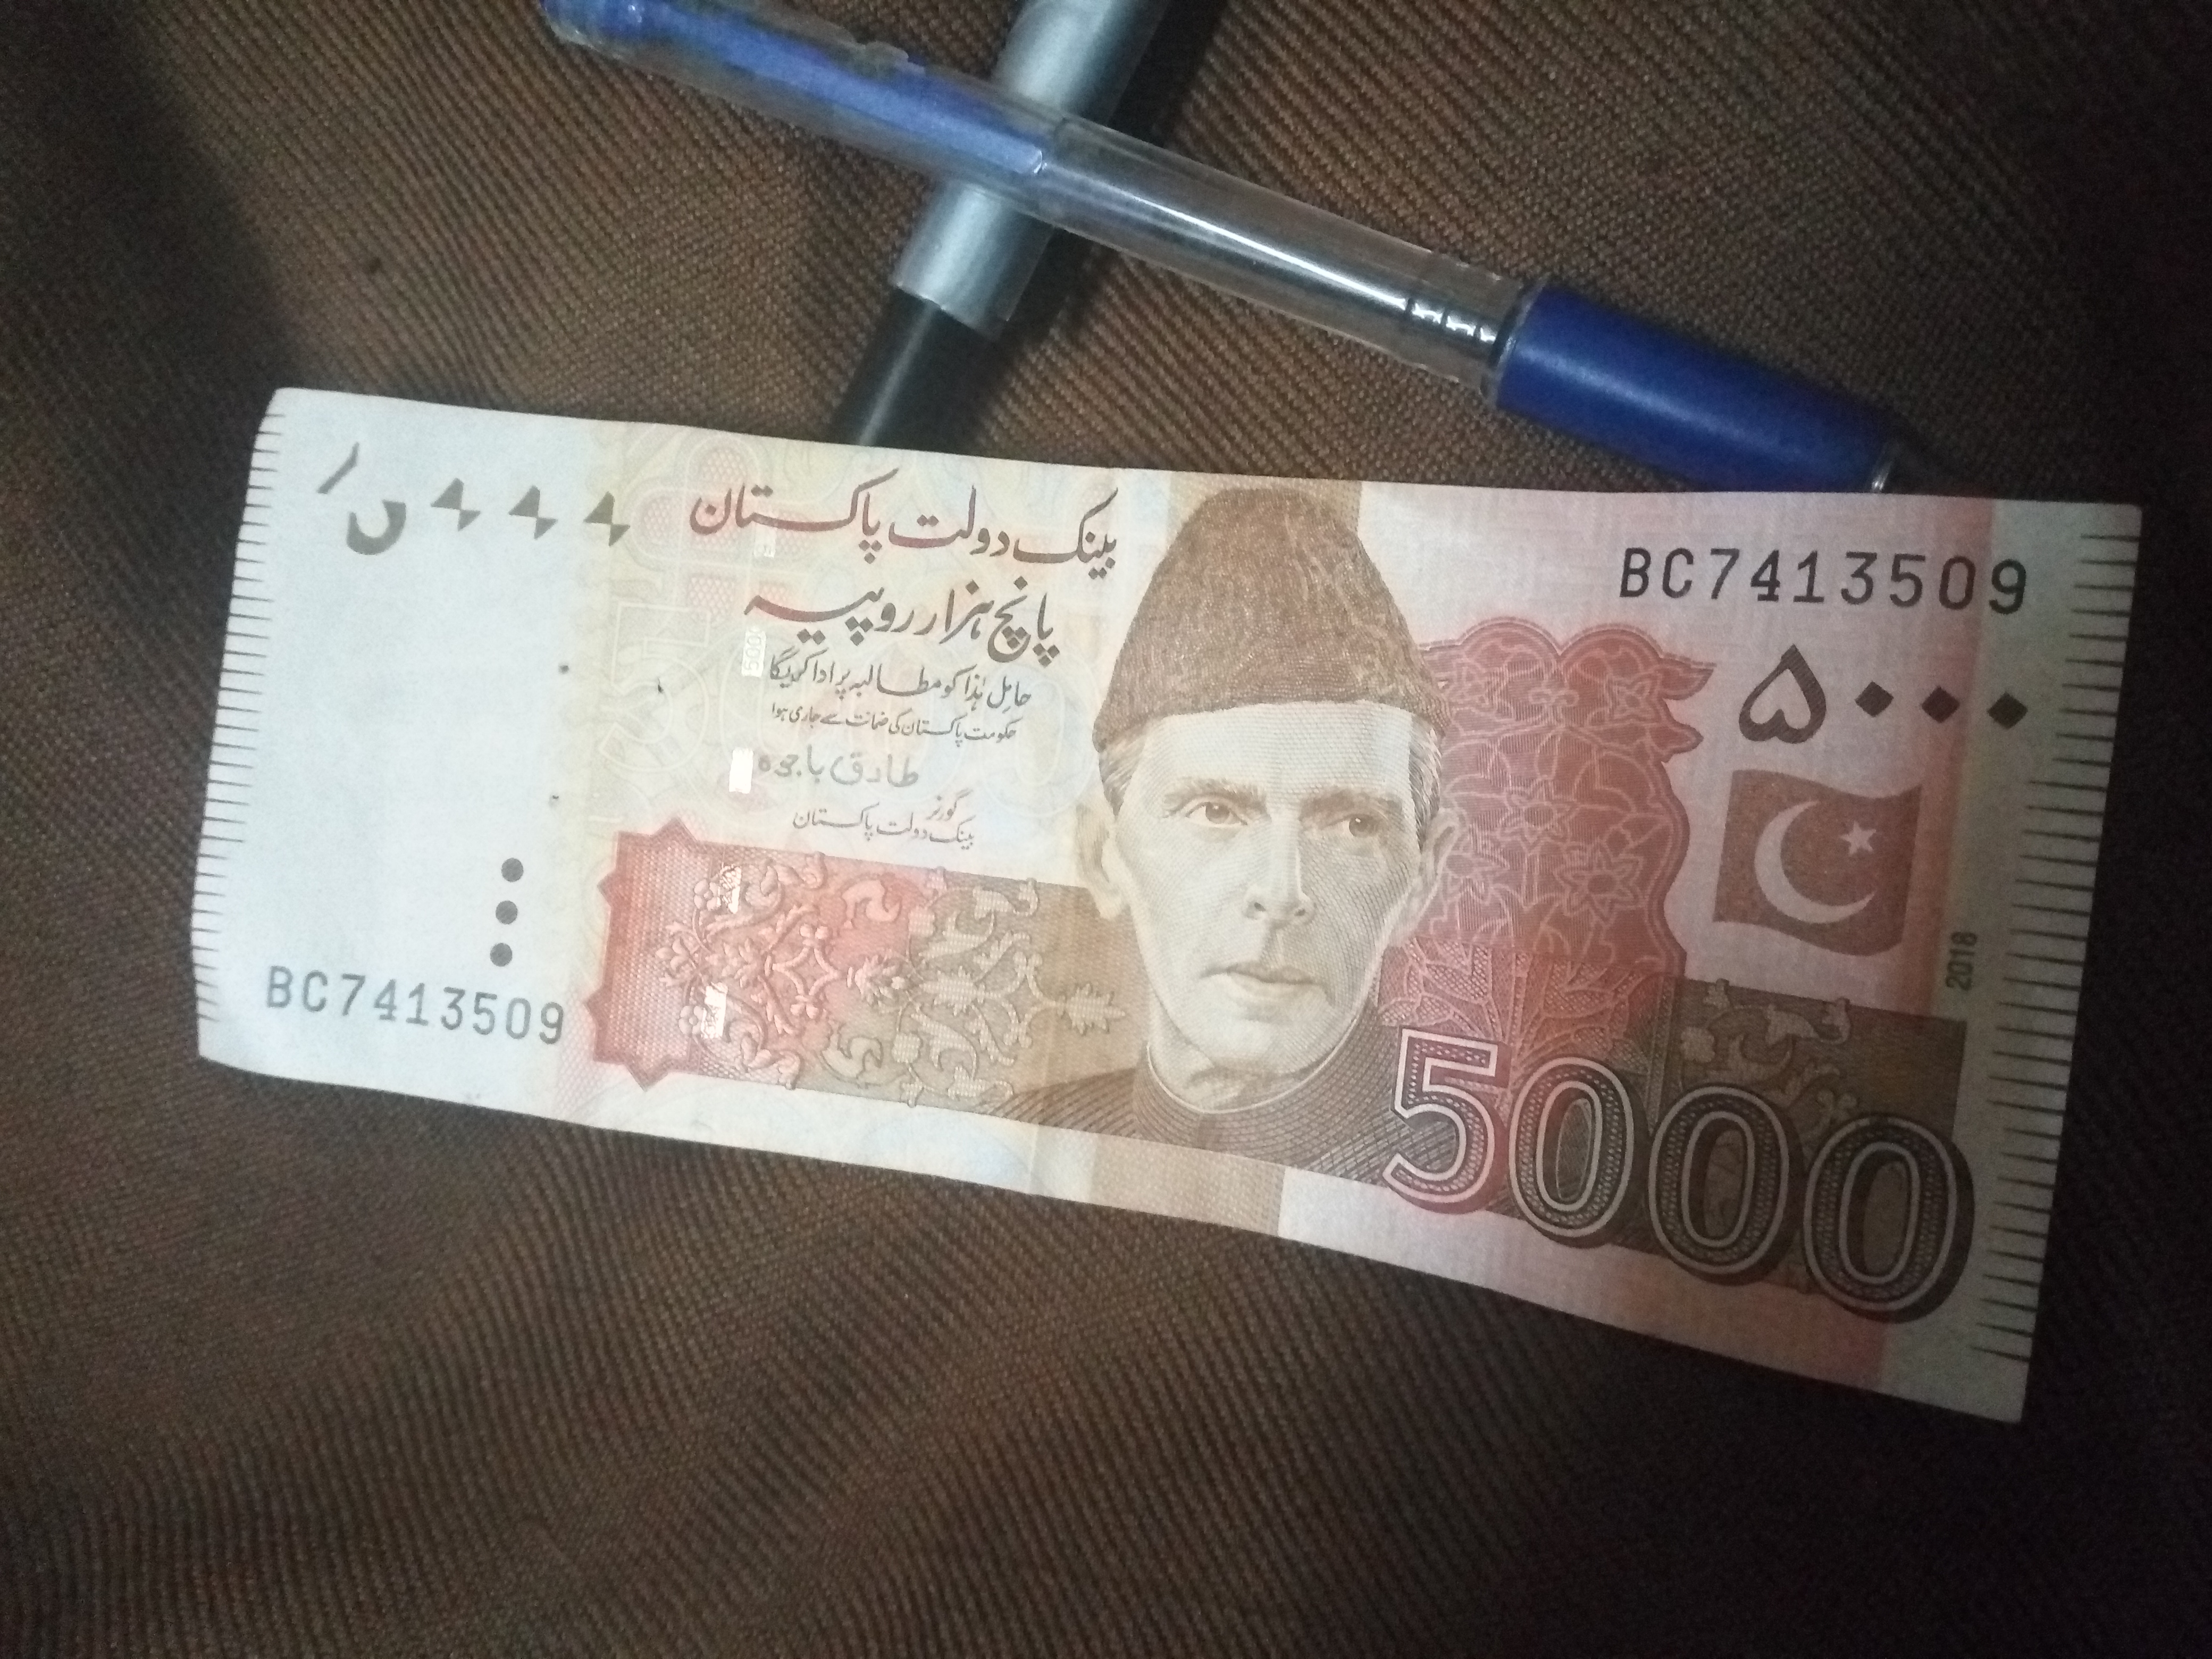5000 rupee: (160, 293, 2161, 1507)
